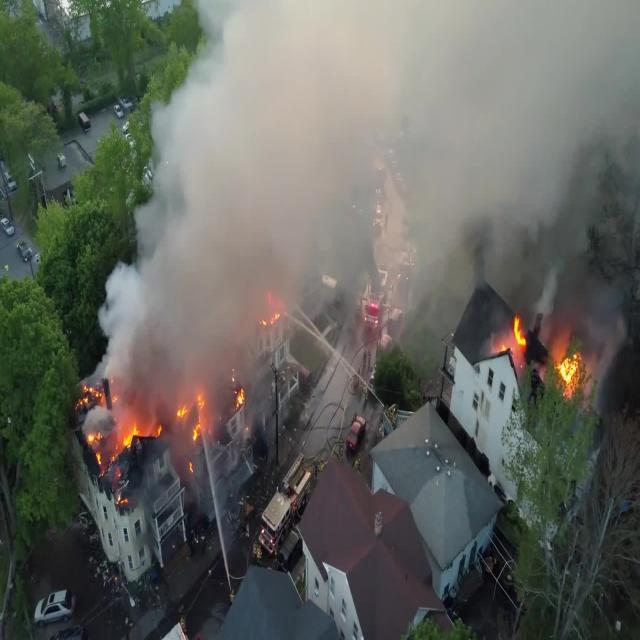Fire: (86, 376, 210, 471), (492, 313, 582, 390)
Smoke: (82, 0, 640, 447)
